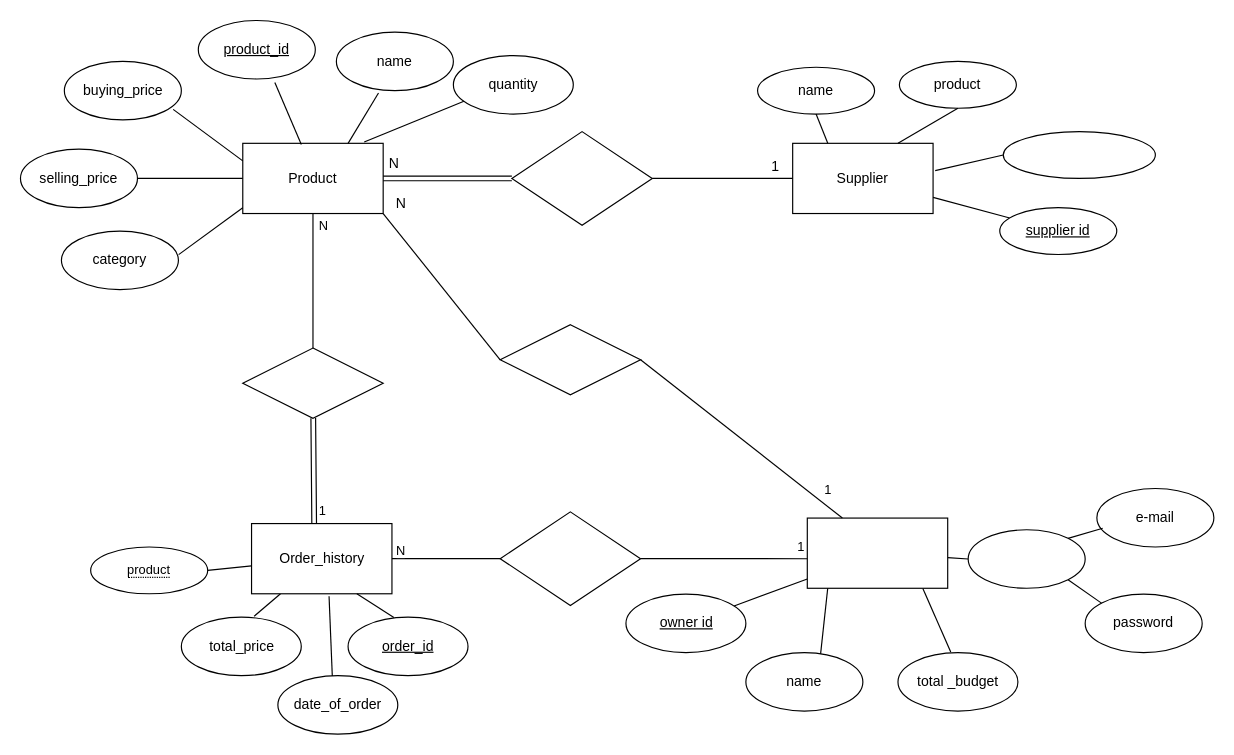
This 1234x755 diagram has some shape labels left out. The shapes that lost their labels are listed below. From the top down, each one's centre as x and y in pixels, then its label:
At (1078,154): "location_of_origin".
At (581,177): "owned_by".
At (570,359): "bought_by".
At (312,382): "contained_in".
At (570,558): "viewed_by".
At (877,552): "Business_owner".
At (1026,558): "login_ credentials".
